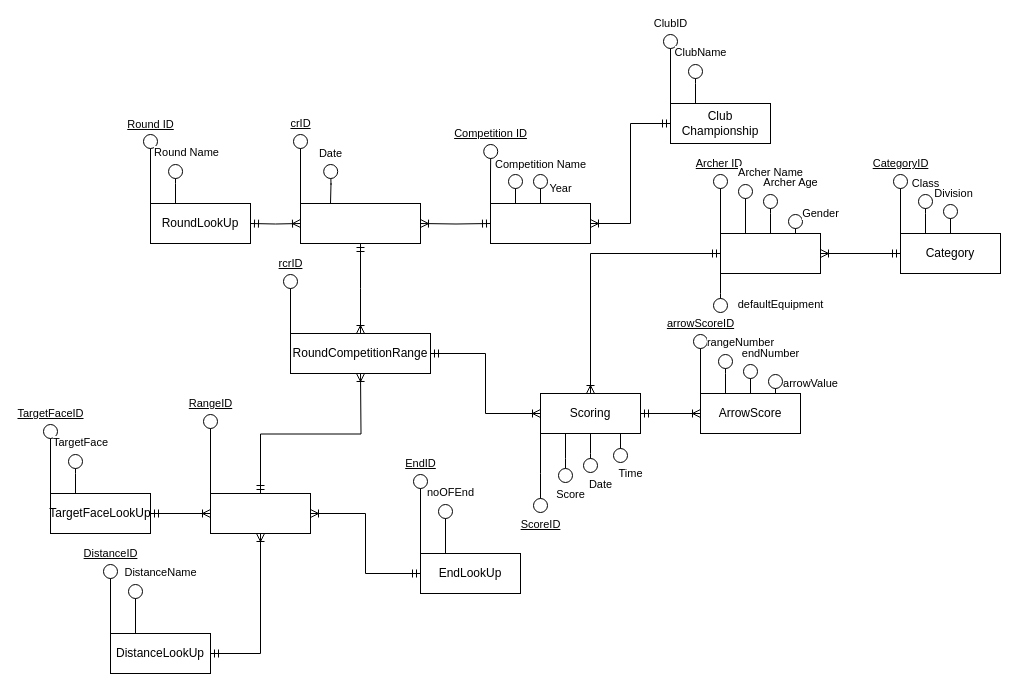
The diagram is 1018 pixels wide and 692 high, and some of its shapes have lost their labels. The centre of each missing label's shape, as x and y in pixels:
"Archer" goes at (x=770, y=253).
"Competition" goes at (x=540, y=223).
"RangeLookUp" goes at (x=260, y=513).
"RoundCompetition" goes at (x=360, y=223).
